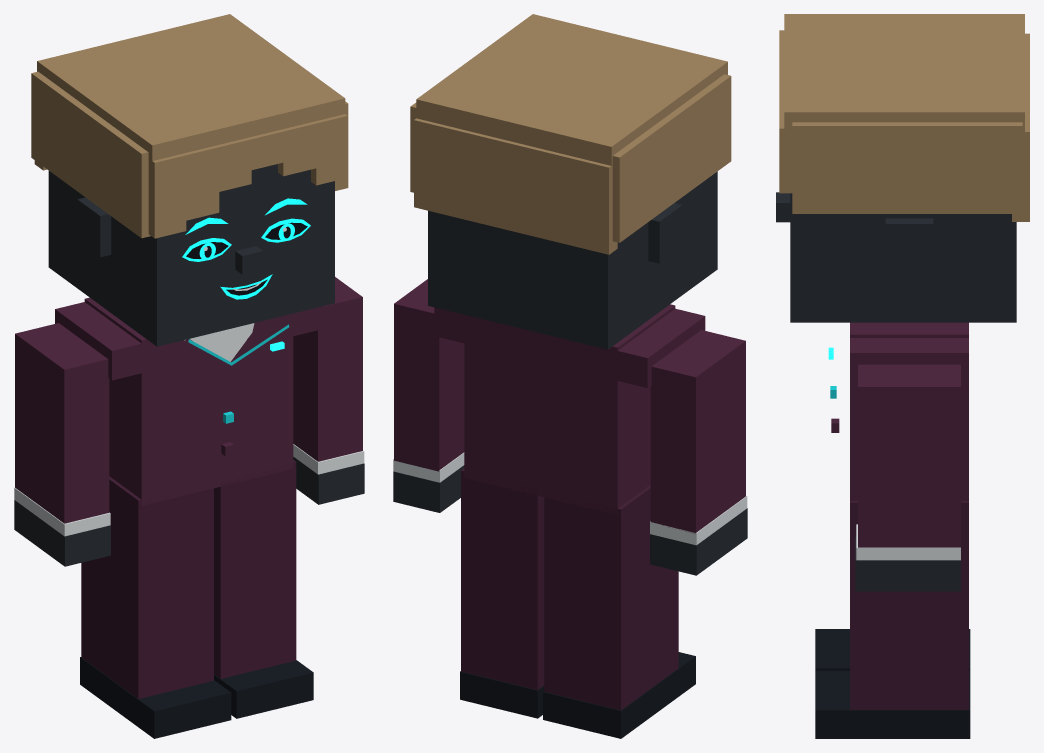
The model's file is agent_male_base_short.glb.
3 views of the same model, side by side, from view 1: azimuth 30°, elevation 25°; view 2: azimuth 150°, elevation 25°; view 3: azimuth 270°, elevation 25° (orthographic). The views are drawn at different scales.
Parts seen in each view (by area): view 1: char_hair_visual, char_torso_visual, char_head_visual, char_leg_negx_visual, char_arm_negx_visual, char_leg_posx_visual, char_arm_posx_visual, char_hand_negx_visual, char_hand_posx_visual, char_eye_posx_visual, char_eye_negx_visual; view 2: char_hair_visual, char_torso_visual, char_head_visual, char_leg_negx_visual, char_arm_negx_visual, char_leg_posx_visual, char_arm_posx_visual, char_hand_negx_visual, char_hand_posx_visual; view 3: char_hair_visual, char_head_visual, char_arm_posx_visual, char_leg_posx_visual, char_torso_visual, char_hand_posx_visual, char_leg_negx_visual.
Boxes of the visible parts, left/top/right/bottom form: char_hair_visual: left=31, top=14, right=348, bottom=238; char_torso_visual: left=55, top=297, right=322, bottom=576; char_head_visual: left=48, top=164, right=334, bottom=346; char_leg_negx_visual: left=80, top=556, right=231, bottom=738; char_arm_negx_visual: left=14, top=323, right=110, bottom=536; char_leg_posx_visual: left=214, top=538, right=313, bottom=718; char_arm_posx_visual: left=293, top=277, right=364, bottom=474; char_hand_negx_visual: left=14, top=500, right=110, bottom=566; char_hand_posx_visual: left=293, top=457, right=364, bottom=504; char_eye_posx_visual: left=261, top=218, right=310, bottom=242; char_eye_negx_visual: left=182, top=238, right=231, bottom=261; char_hair_visual: left=410, top=14, right=731, bottom=254; char_torso_visual: left=434, top=304, right=705, bottom=586; char_head_visual: left=428, top=171, right=717, bottom=349; char_leg_negx_visual: left=543, top=564, right=695, bottom=738; char_arm_negx_visual: left=650, top=330, right=747, bottom=545; char_leg_posx_visual: left=460, top=547, right=544, bottom=718; char_arm_posx_visual: left=393, top=279, right=464, bottom=482; char_hand_negx_visual: left=650, top=508, right=747, bottom=575; char_hand_posx_visual: left=393, top=465, right=464, bottom=512; char_hair_visual: left=779, top=14, right=1029, bottom=221; char_head_visual: left=776, top=192, right=1016, bottom=322; char_arm_posx_visual: left=856, top=364, right=960, bottom=560; char_leg_posx_visual: left=815, top=581, right=970, bottom=738; char_torso_visual: left=830, top=322, right=968, bottom=587; char_hand_posx_visual: left=855, top=537, right=960, bottom=591; char_leg_negx_visual: left=815, top=629, right=970, bottom=670.
Size of the model in its own units: 0.91 by 1.77 by 0.6395.
